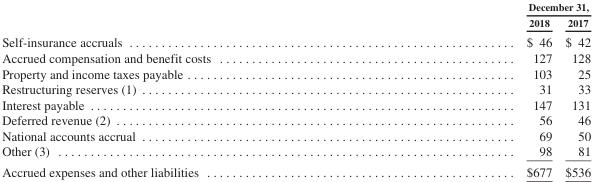table: (1, 0, 590, 178)
table column: (1, 0, 367, 178), (367, 0, 557, 178), (557, 0, 590, 178)
table column header: (1, 0, 590, 31)
table row: (1, 31, 590, 49), (1, 142, 590, 160), (1, 160, 590, 178), (1, 14, 590, 31), (1, 49, 590, 65), (1, 80, 590, 96), (1, 111, 590, 127), (1, 65, 590, 80), (1, 96, 590, 111), (1, 127, 590, 142), (1, 0, 590, 14)
table spanning cell: (367, 0, 590, 14)
